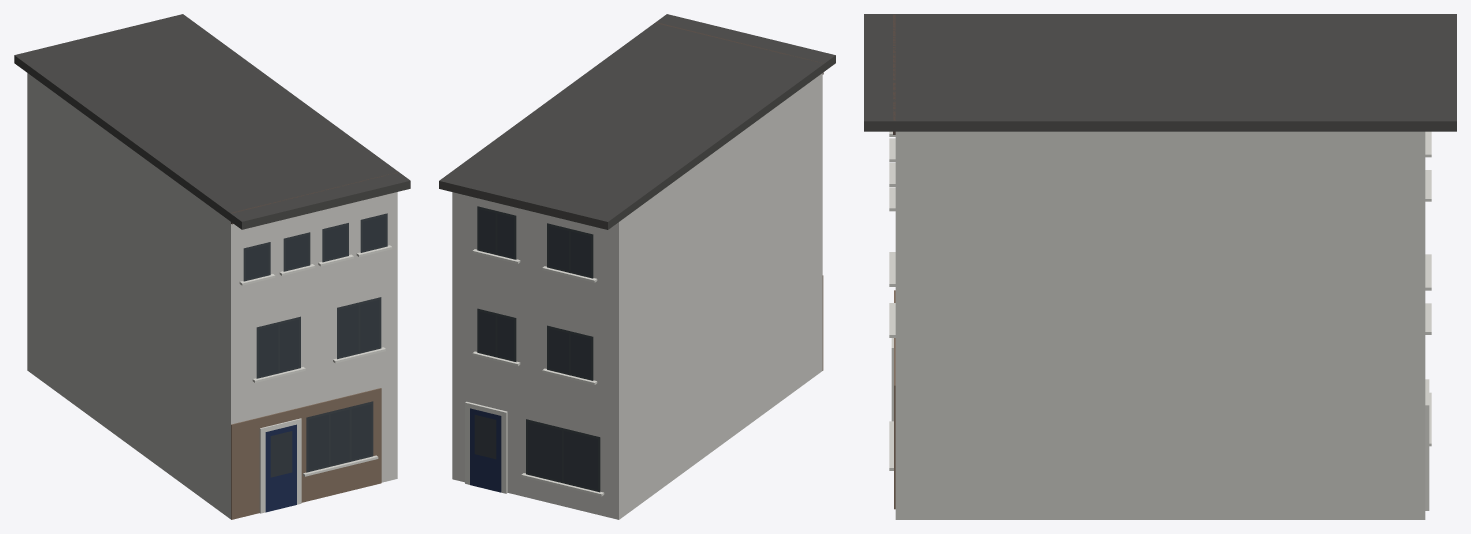
File: nw-nsn-white__white__3__flat__long__solid__f0d0.glb
3 renders of one model, left to right at view 1: azimuth 30°, elevation 25°; view 2: azimuth 150°, elevation 25°; view 3: azimuth 270°, elevation 25°, orthographic. The views are drawn at different scales.
Parts seen in each view (by area): view 1: nw-nsn-white__white__3__flat__long__solid__f0d0; view 2: nw-nsn-white__white__3__flat__long__solid__f0d0; view 3: nw-nsn-white__white__3__flat__long__solid__f0d0.
Boxes of the visible parts, left/top/right/bottom form: nw-nsn-white__white__3__flat__long__solid__f0d0: left=14, top=14, right=410, bottom=519; nw-nsn-white__white__3__flat__long__solid__f0d0: left=439, top=14, right=835, bottom=519; nw-nsn-white__white__3__flat__long__solid__f0d0: left=864, top=14, right=1456, bottom=519.
Bounding box in the file's own units: 4.84 × 8.4 × 11.3.
